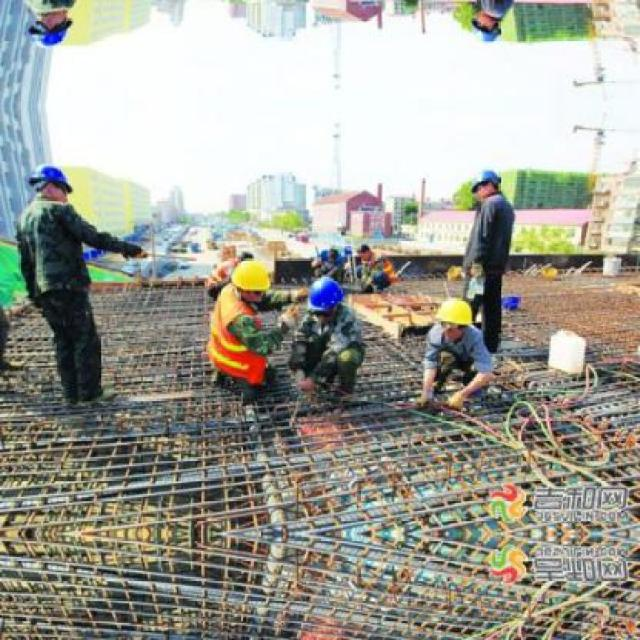helmet: (233, 255, 272, 299), (32, 161, 72, 202), (32, 7, 72, 48), (308, 275, 344, 319), (437, 296, 474, 338), (467, 167, 502, 199), (467, 10, 502, 42)
